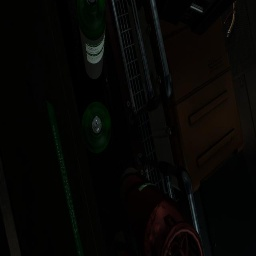0: (77, 0, 106, 79), (82, 102, 111, 153)
NitrogenTank ,: (120, 167, 204, 256), (110, 230, 137, 256)
